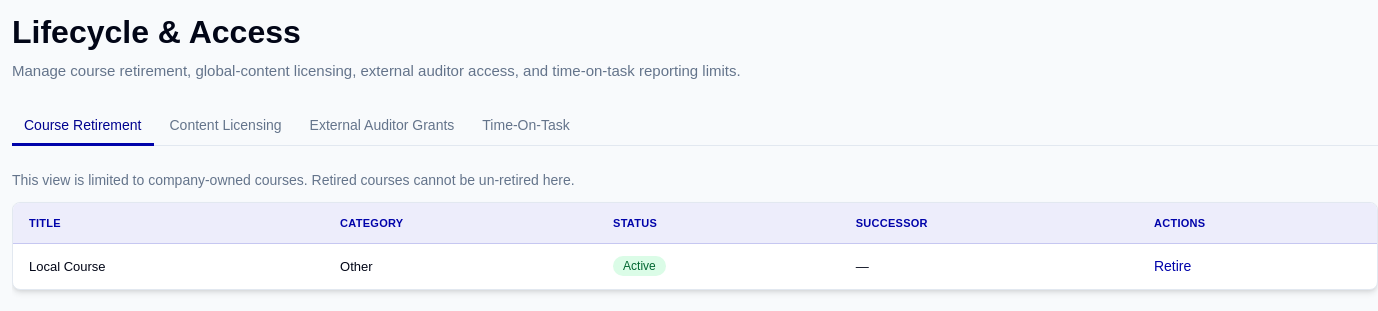
Test: MhdLifecycleAccessAdminPage — Content Licensing › lists only global courses and shows Unrestricted when no license row exists
The width and height of the screenshot is (1378, 311).
What coordinates should you click on to do the following:
click the tab "Content Licensing"
I would click on:
 (226, 126)
Its box is [158,106,294,146].
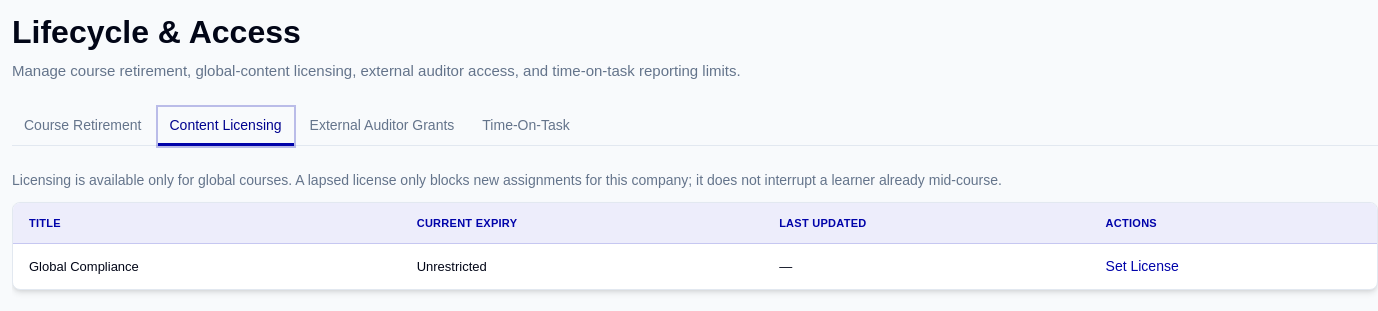
Result: the text "Global Compliance" is shown at [13,244,401,288]
Result: the text "Local Course" is gone
Result: the text "Unrestricted" is shown at [401,244,763,288]
